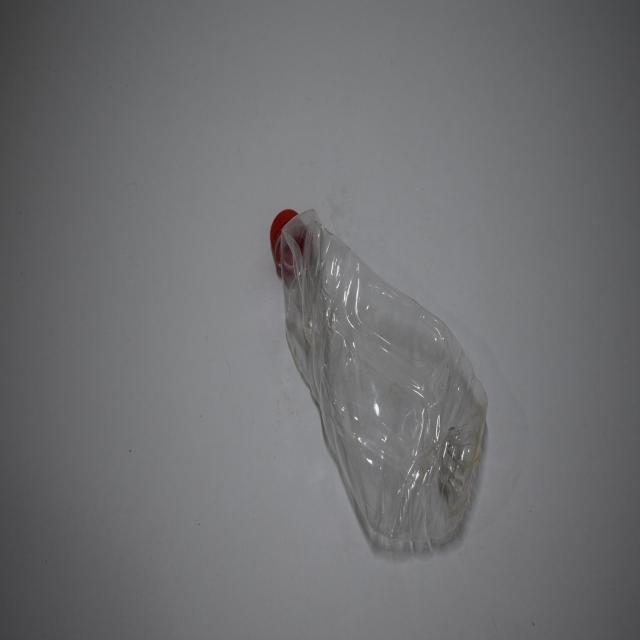bottle: (237, 205, 536, 560)
